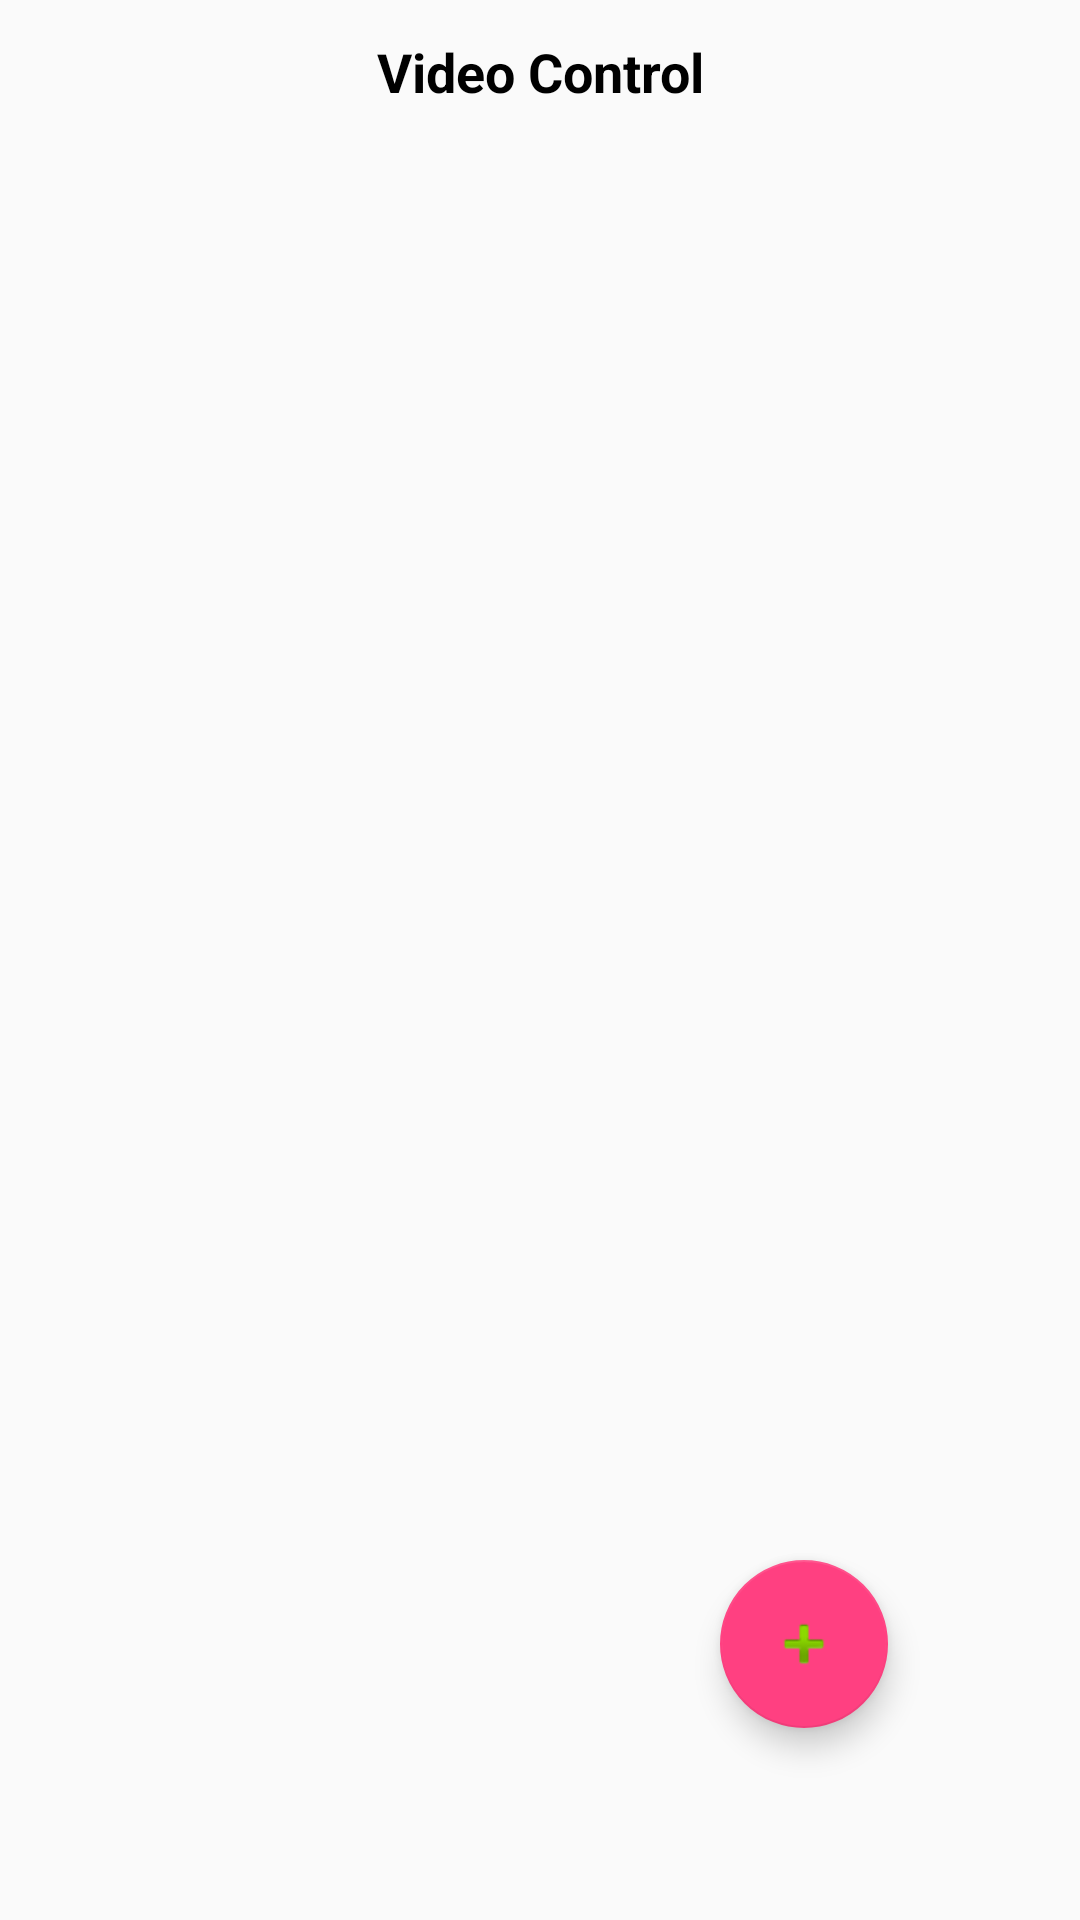

Named icons in this screenshot (1080x1920) and their bounding boxes, (x1=x1, y1=y1, x2=x2, y2=y2):
add: (x1=720, y1=1560, x2=888, y2=1728)
